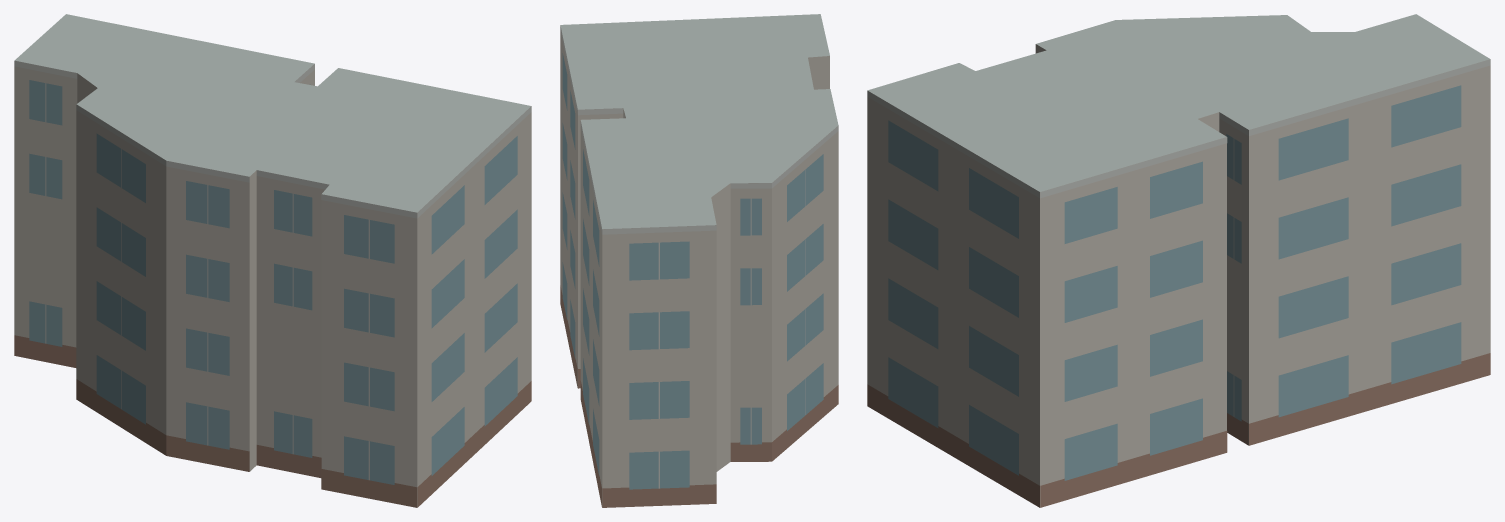
The model's file is survey-upis-32974634.glb.
The picture shows the model from 3 angles, left to right: view 1: azimuth 30°, elevation 25°; view 2: azimuth 150°, elevation 25°; view 3: azimuth 270°, elevation 25°; orthographic projection. The views are drawn at different scales.
Visible parts, largest first — view 1: survey-upis-32974634.tmp; view 2: survey-upis-32974634.tmp; view 3: survey-upis-32974634.tmp.
Boxes of the visible parts, x1=… form: survey-upis-32974634.tmp: x1=14, y1=14, x2=531, y2=507; survey-upis-32974634.tmp: x1=560, y1=14, x2=838, y2=507; survey-upis-32974634.tmp: x1=867, y1=14, x2=1490, y2=507.
Bounding box in the file's own units: 14.89 × 12.3 × 22.01.
